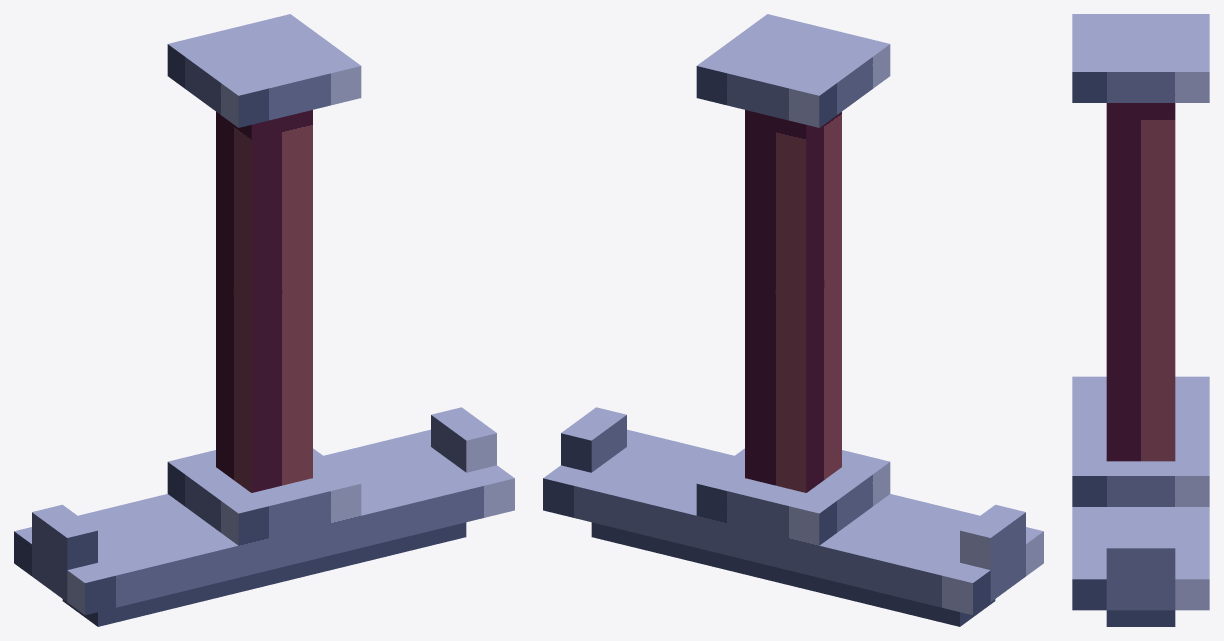
The model's file is mine_tools_2ao.fezao.glb.
3 views of the same model, side by side, from view 1: azimuth 30°, elevation 25°; view 2: azimuth 150°, elevation 25°; view 3: azimuth 270°, elevation 25° (orthographic). The views are drawn at different scales.
Visible parts, largest first — view 1: MINE_TOOLS_2AO; view 2: MINE_TOOLS_2AO; view 3: MINE_TOOLS_2AO.
Boxes of the visible parts, x1,y1,x2,y2 form: MINE_TOOLS_2AO: [14, 14, 514, 626]; MINE_TOOLS_2AO: [543, 14, 1043, 626]; MINE_TOOLS_2AO: [1072, 14, 1209, 626].
Size of the model in its own units: 0.875 by 1 by 0.25.
Materials: 1 (1 with a texture image).
